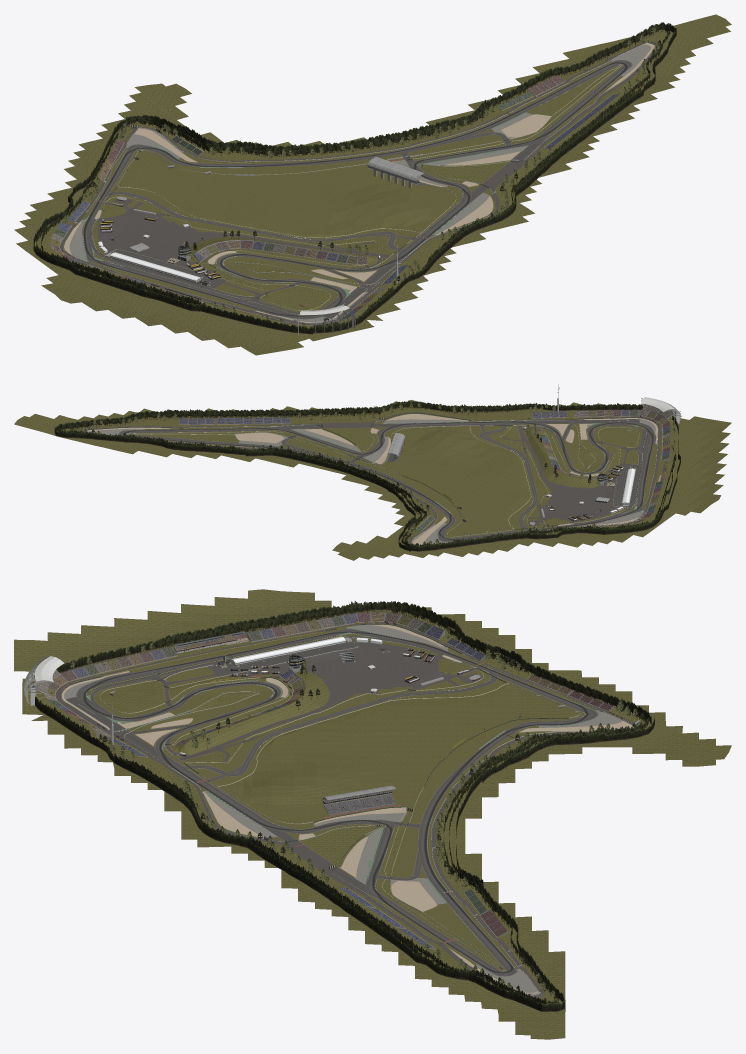
The model's file is hockenheim.glb.
The picture shows the model from 3 angles, top to bottom: view 1: azimuth 30°, elevation 25°; view 2: azimuth 150°, elevation 25°; view 3: azimuth 270°, elevation 25°; orthographic projection. The views are drawn at different scales.
Size of the model in its own units: 1916 by 93.64 by 1289.
Materials: 125 (125 with a texture image).
